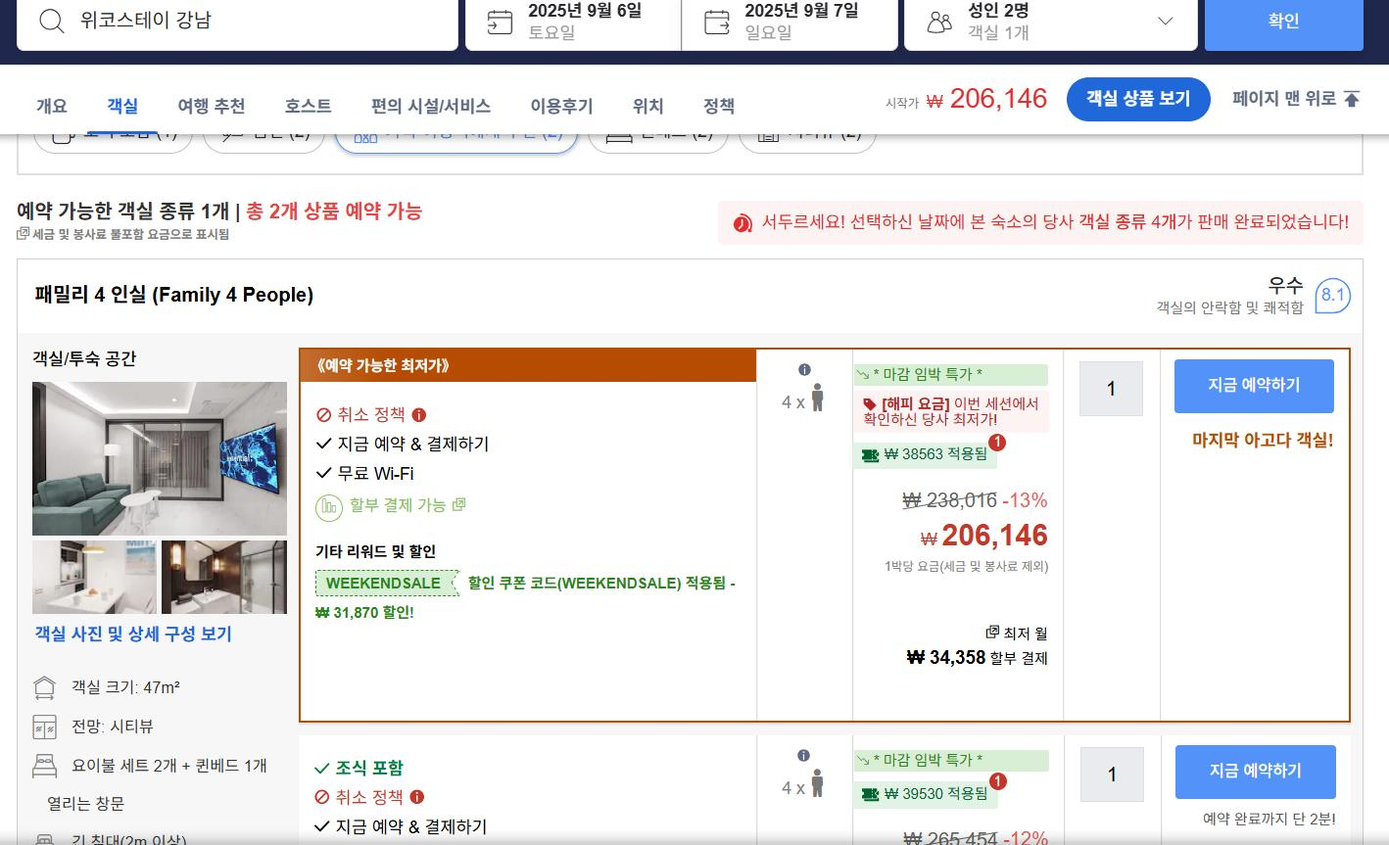button: (1203, 0, 1373, 52), (1177, 359, 1334, 415), (1176, 745, 1338, 798), (1069, 71, 1216, 123), (1232, 78, 1378, 115), (369, 88, 501, 122), (1079, 747, 1143, 803), (1079, 360, 1143, 416), (527, 88, 603, 120), (177, 91, 257, 120), (278, 91, 340, 119), (102, 89, 151, 118), (630, 91, 675, 119), (700, 92, 746, 118), (33, 94, 74, 118)
checkbox: (908, 0, 1198, 50), (474, 0, 676, 55), (683, 3, 904, 48)
input_field: (14, 0, 460, 51)
